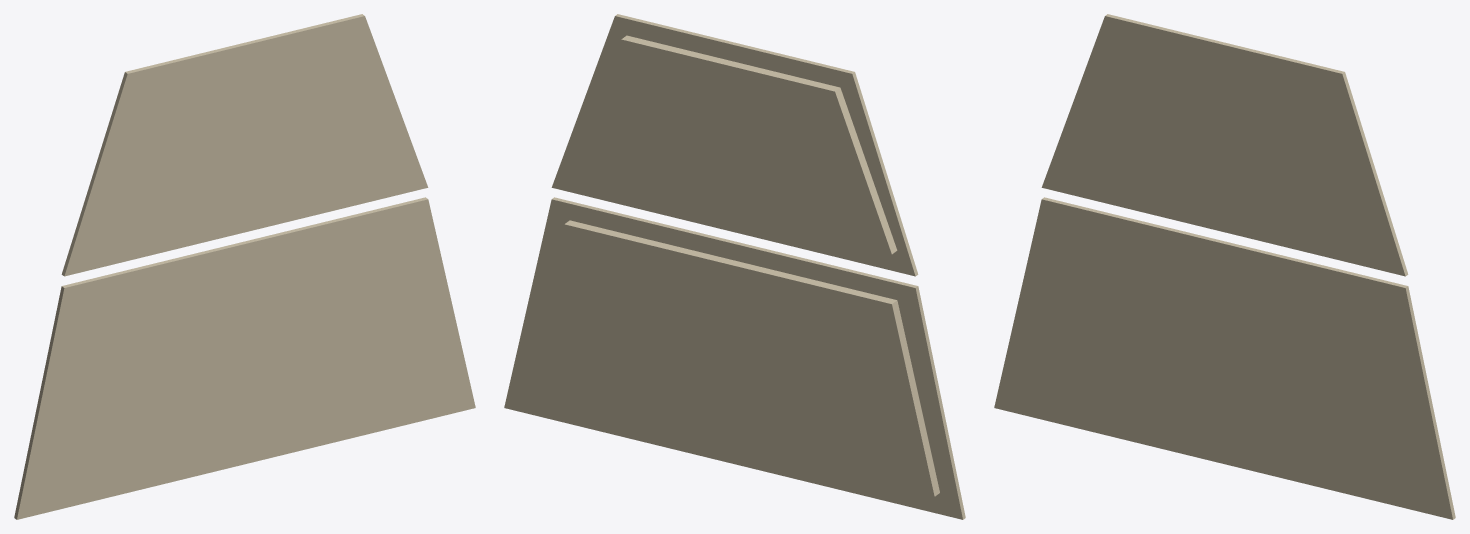
Rendered from ship_sail.fbx.
The picture shows the model from 3 angles, left to right: view 1: azimuth 30°, elevation 25°; view 2: azimuth 150°, elevation 25°; view 3: azimuth 330°, elevation 25°; orthographic projection.
Visible parts, largest first — view 1: ship_sail; view 2: ship_sail; view 3: ship_sail.
Boxes of the visible parts, x1,y1,x2,y2 form: ship_sail: [14, 14, 475, 519]; ship_sail: [504, 14, 965, 519]; ship_sail: [994, 14, 1455, 519].
Size of the model in its own units: 2900 by 2530 by 90.
